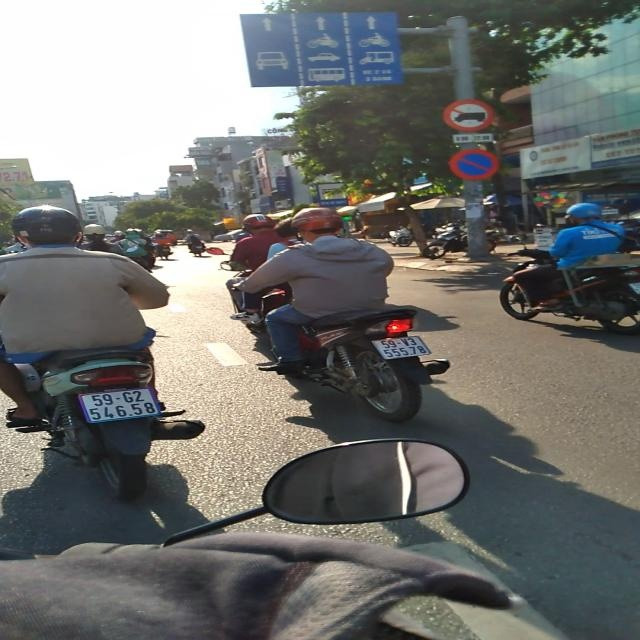bien_chi_dan: (448, 148, 500, 181), (442, 99, 494, 132)
